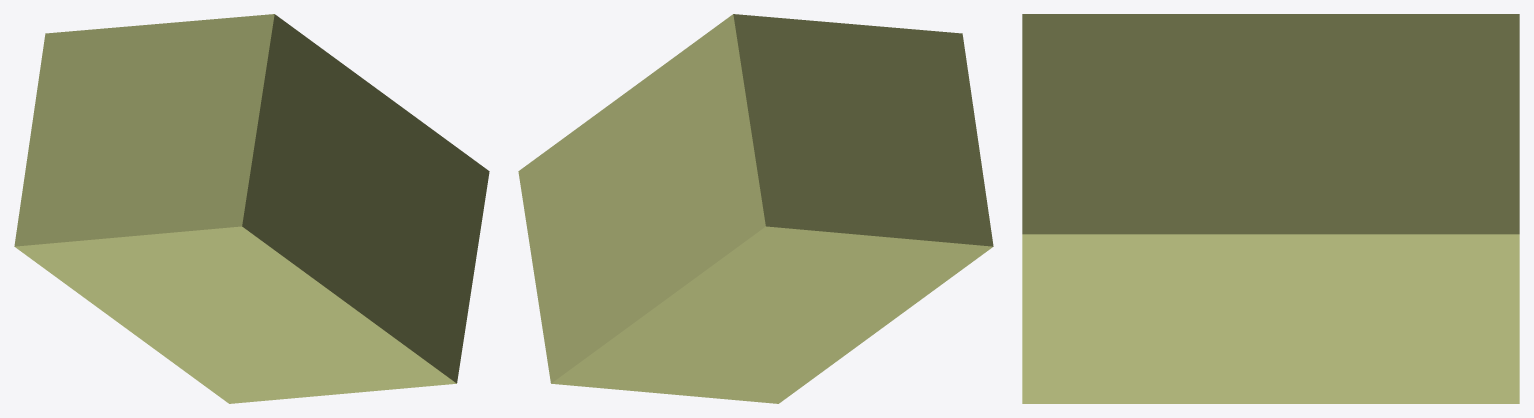
3 renders of one model, left to right at view 1: azimuth 30°, elevation 25°; view 2: azimuth 150°, elevation 25°; view 3: azimuth 270°, elevation 25°, orthographic. The views are drawn at different scales.
Parts seen in each view (by area): view 1: 0_0_1_3_2_1_2_1_3_0_0; view 2: 0_0_1_3_2_1_2_1_3_0_0; view 3: 0_0_1_3_2_1_2_1_3_0_0.
Boxes of the visible parts, x1=… form: 0_0_1_3_2_1_2_1_3_0_0: x1=14, y1=14, x2=489, y2=403; 0_0_1_3_2_1_2_1_3_0_0: x1=518, y1=14, x2=993, y2=403; 0_0_1_3_2_1_2_1_3_0_0: x1=1022, y1=14, x2=1519, y2=403.
Bounding box in the file's own units: 6.29 × 5.57 × 9.
